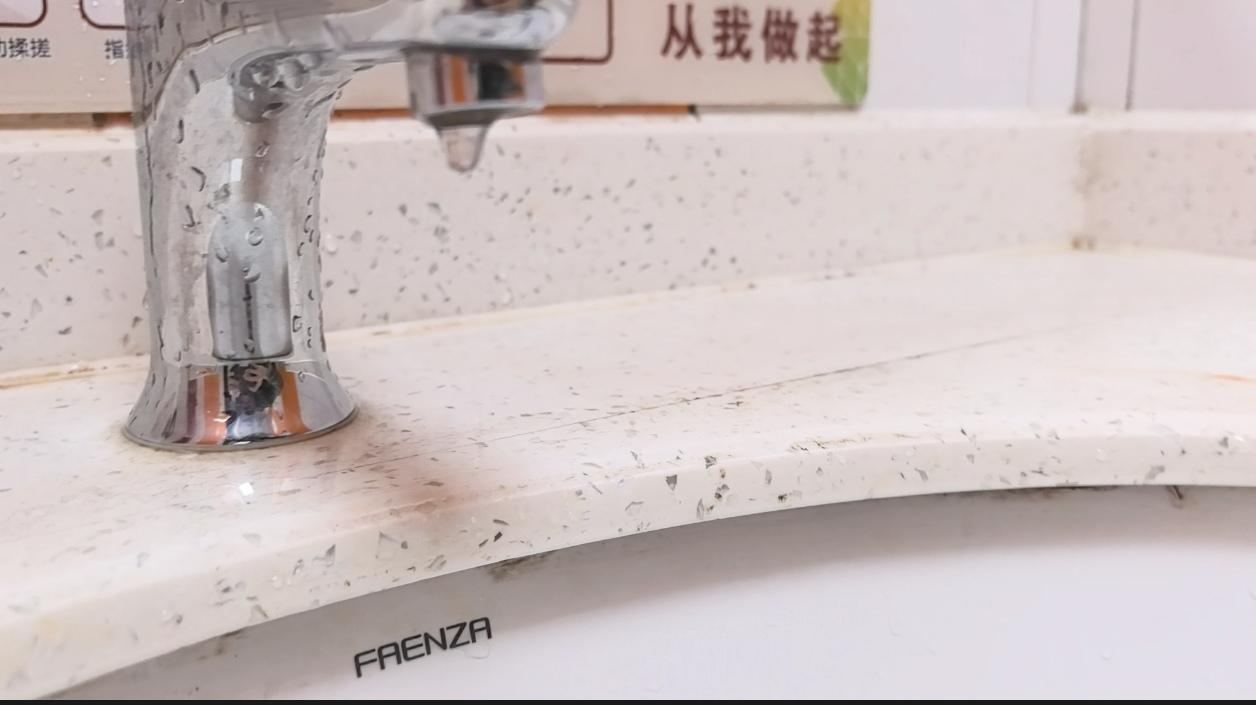water drop: (434, 113, 492, 174)
